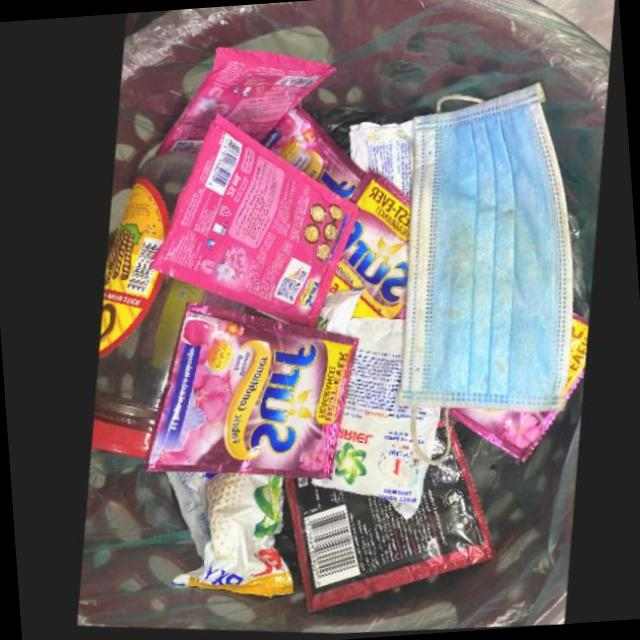goi_nhua_nho: (277, 416, 495, 616), (147, 124, 348, 329), (142, 306, 355, 483), (144, 51, 325, 160), (171, 478, 293, 599), (325, 170, 403, 321), (252, 110, 358, 203), (441, 410, 556, 463), (339, 122, 405, 202), (556, 316, 584, 413)
hop_nhua: (88, 156, 238, 468)
khau_trang: (393, 85, 569, 415)
